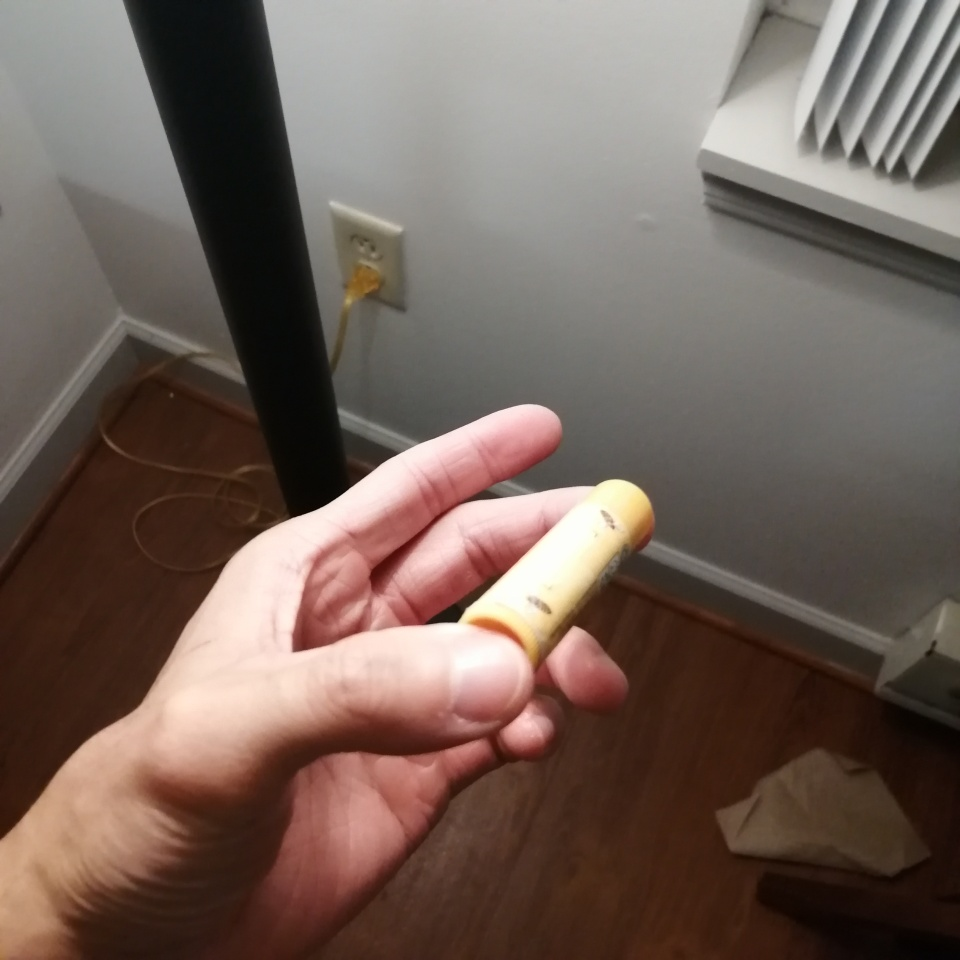chapstick: (460, 477, 657, 669)
